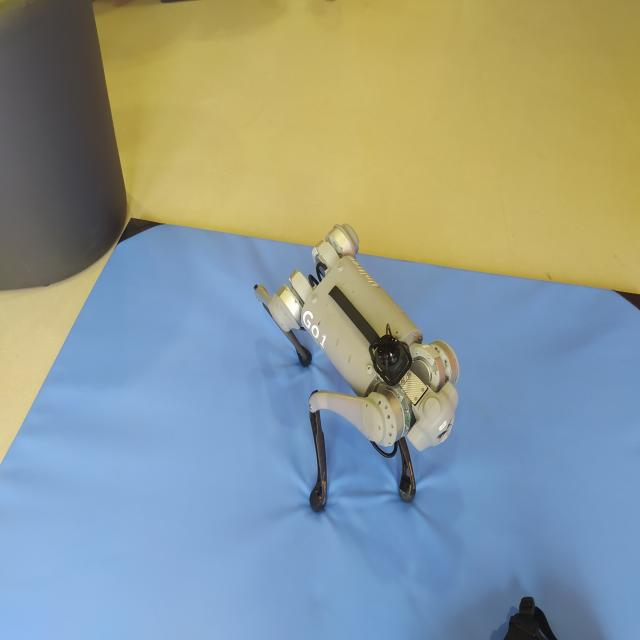unitree-go1-robot: (237, 204, 476, 537)
